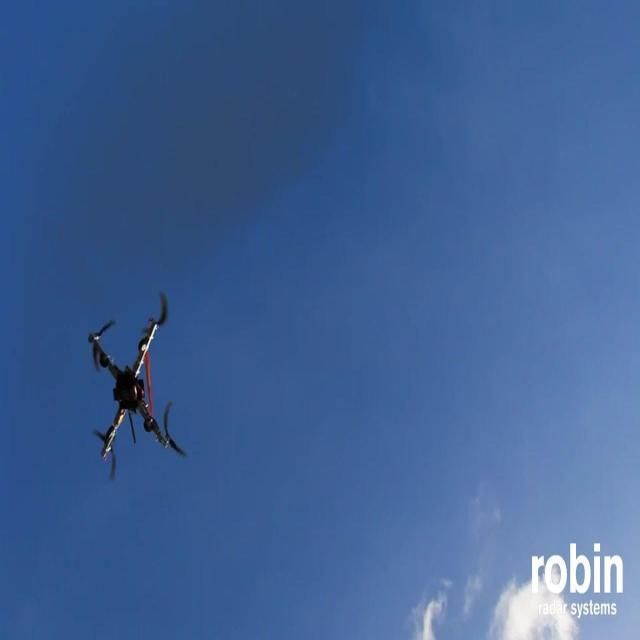drone: (87, 286, 191, 485)
